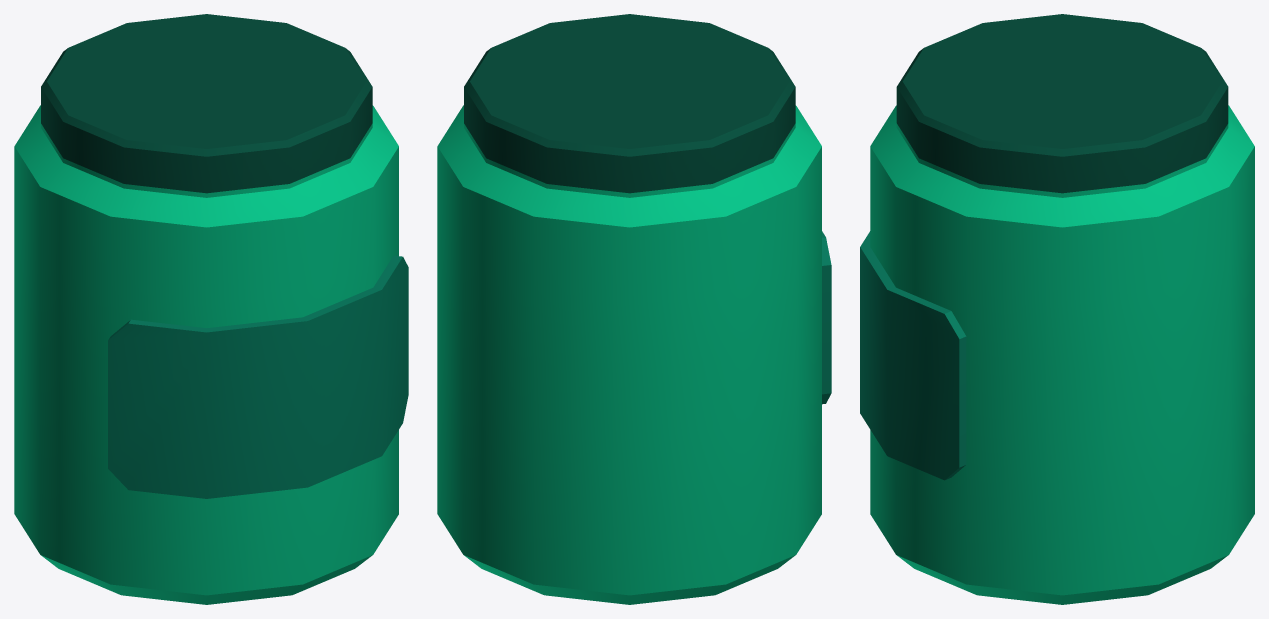
Rendered from Jar_01.fbx.
The picture shows the model from 3 angles, left to right: view 1: azimuth 30°, elevation 25°; view 2: azimuth 150°, elevation 25°; view 3: azimuth 270°, elevation 25°; orthographic projection.
Visible parts, largest first — view 1: Jar_01; view 2: Jar_01; view 3: Jar_01.
Part boxes in pixels (box(x1,y1,x2,y2)): Jar_01: box(14, 14, 408, 604); Jar_01: box(437, 14, 831, 604); Jar_01: box(860, 14, 1254, 604).
Bounding box in the file's own units: 22.25 × 28.8 × 22.84.
